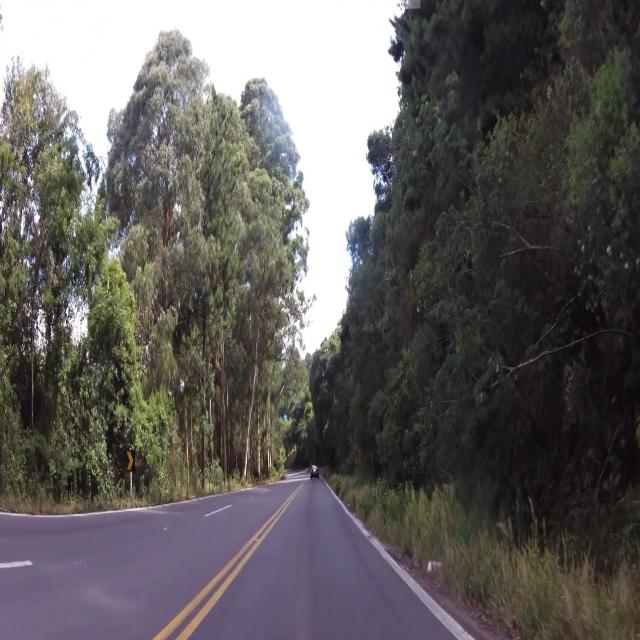Del: (127, 447, 136, 475)
